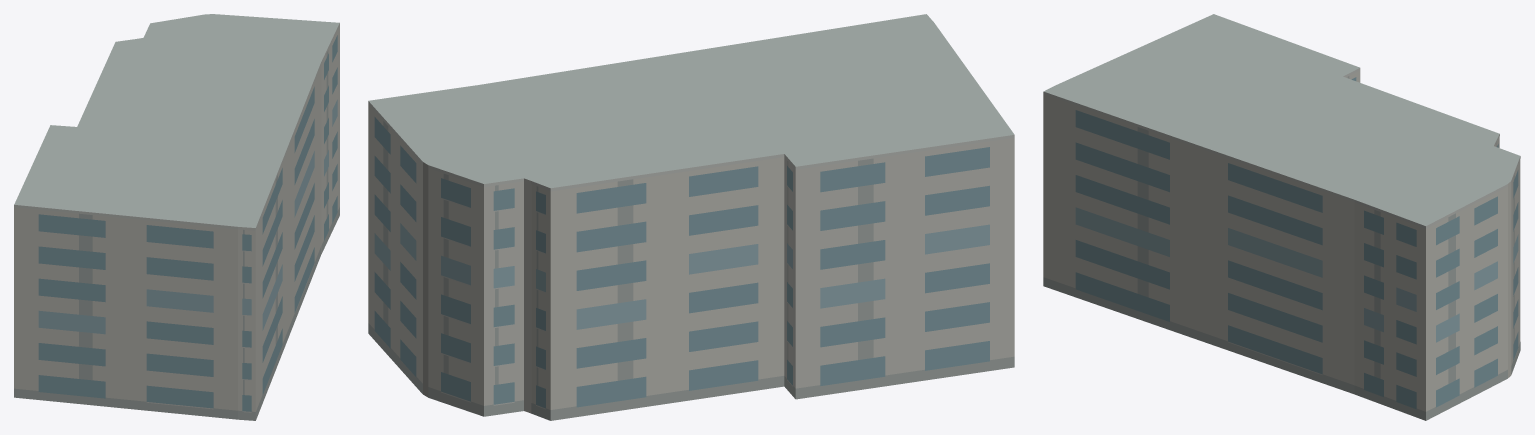
The model's file is survey-upis-32992799.glb.
3 views of the same model, side by side, from view 1: azimuth 30°, elevation 25°; view 2: azimuth 150°, elevation 25°; view 3: azimuth 270°, elevation 25° (orthographic). The views are drawn at different scales.
Visible parts, largest first — view 1: survey-upis-32992799.tmp; view 2: survey-upis-32992799.tmp; view 3: survey-upis-32992799.tmp.
Boxes of the visible parts, <box> form: survey-upis-32992799.tmp: <box>14,14,339,420</box>; survey-upis-32992799.tmp: <box>368,14,1014,420</box>; survey-upis-32992799.tmp: <box>1043,14,1520,420</box>.
Bounding box in the file's own units: 42.79 × 18.3 × 40.64.
